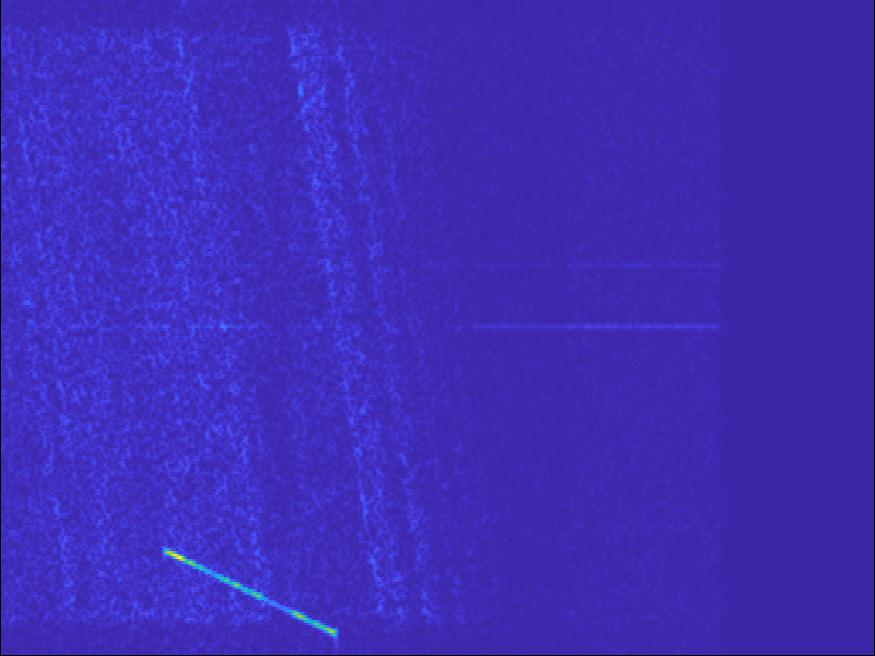Interference: (157, 537, 349, 642)
